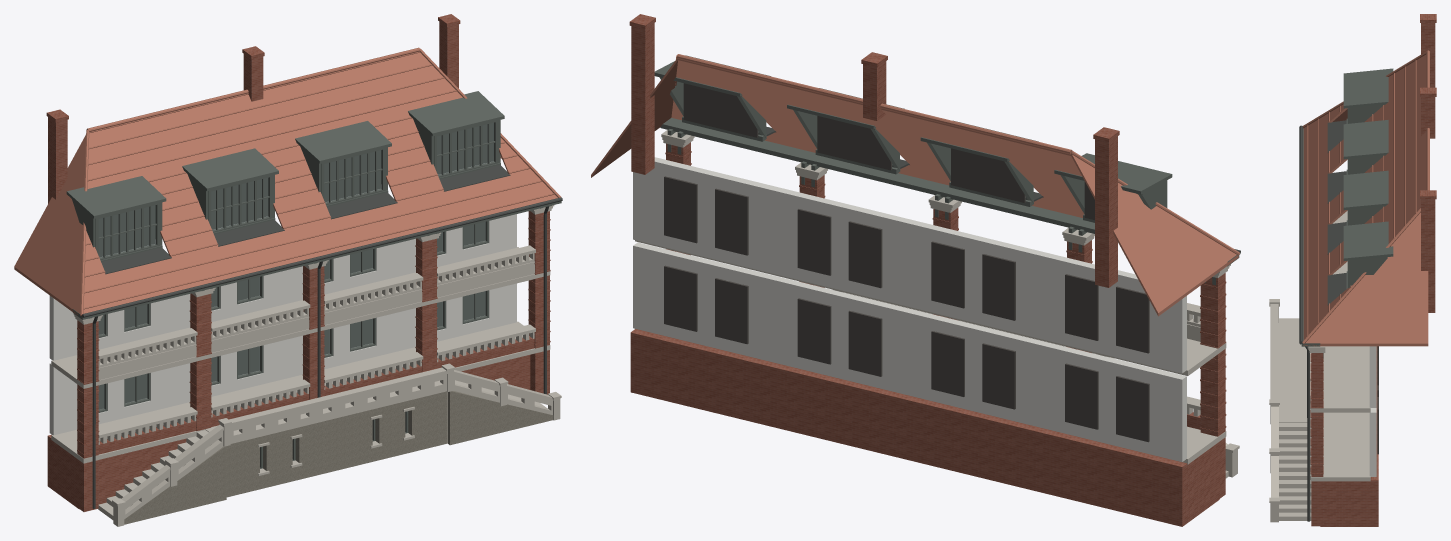
File: lod-source.glb
3 views of the same model, side by side, from view 1: azimuth 30°, elevation 25°; view 2: azimuth 150°, elevation 25°; view 3: azimuth 270°, elevation 25° (orthographic). The views are drawn at different scales.
Parts seen in each view (by area): view 1: 新华村11号楼四跨院廊与坡屋面; view 2: 新华村11号楼四跨院廊与坡屋面; view 3: 新华村11号楼四跨院廊与坡屋面.
Part boxes in pixels (left/top/right/bottom): 新华村11号楼四跨院廊与坡屋面: left=14, top=14, right=562, bottom=526; 新华村11号楼四跨院廊与坡屋面: left=591, top=14, right=1240, bottom=526; 新华村11号楼四跨院廊与坡屋面: left=1269, top=14, right=1436, bottom=526.
Size of the model in its own units: 21.33 by 15.22 by 6.94.
9 materials, 2 textured.
